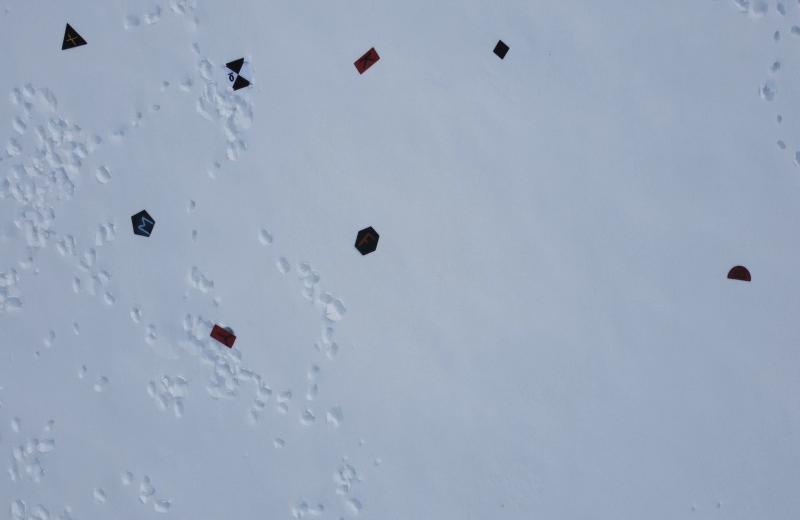Hexagon: (353, 226, 380, 258)
Pentagon: (128, 208, 158, 240)
Rectangle: (208, 319, 242, 355), (352, 44, 382, 77)
Semi Circle: (721, 264, 755, 284)
Square: (490, 35, 511, 62)
Triangle: (60, 18, 92, 55)
